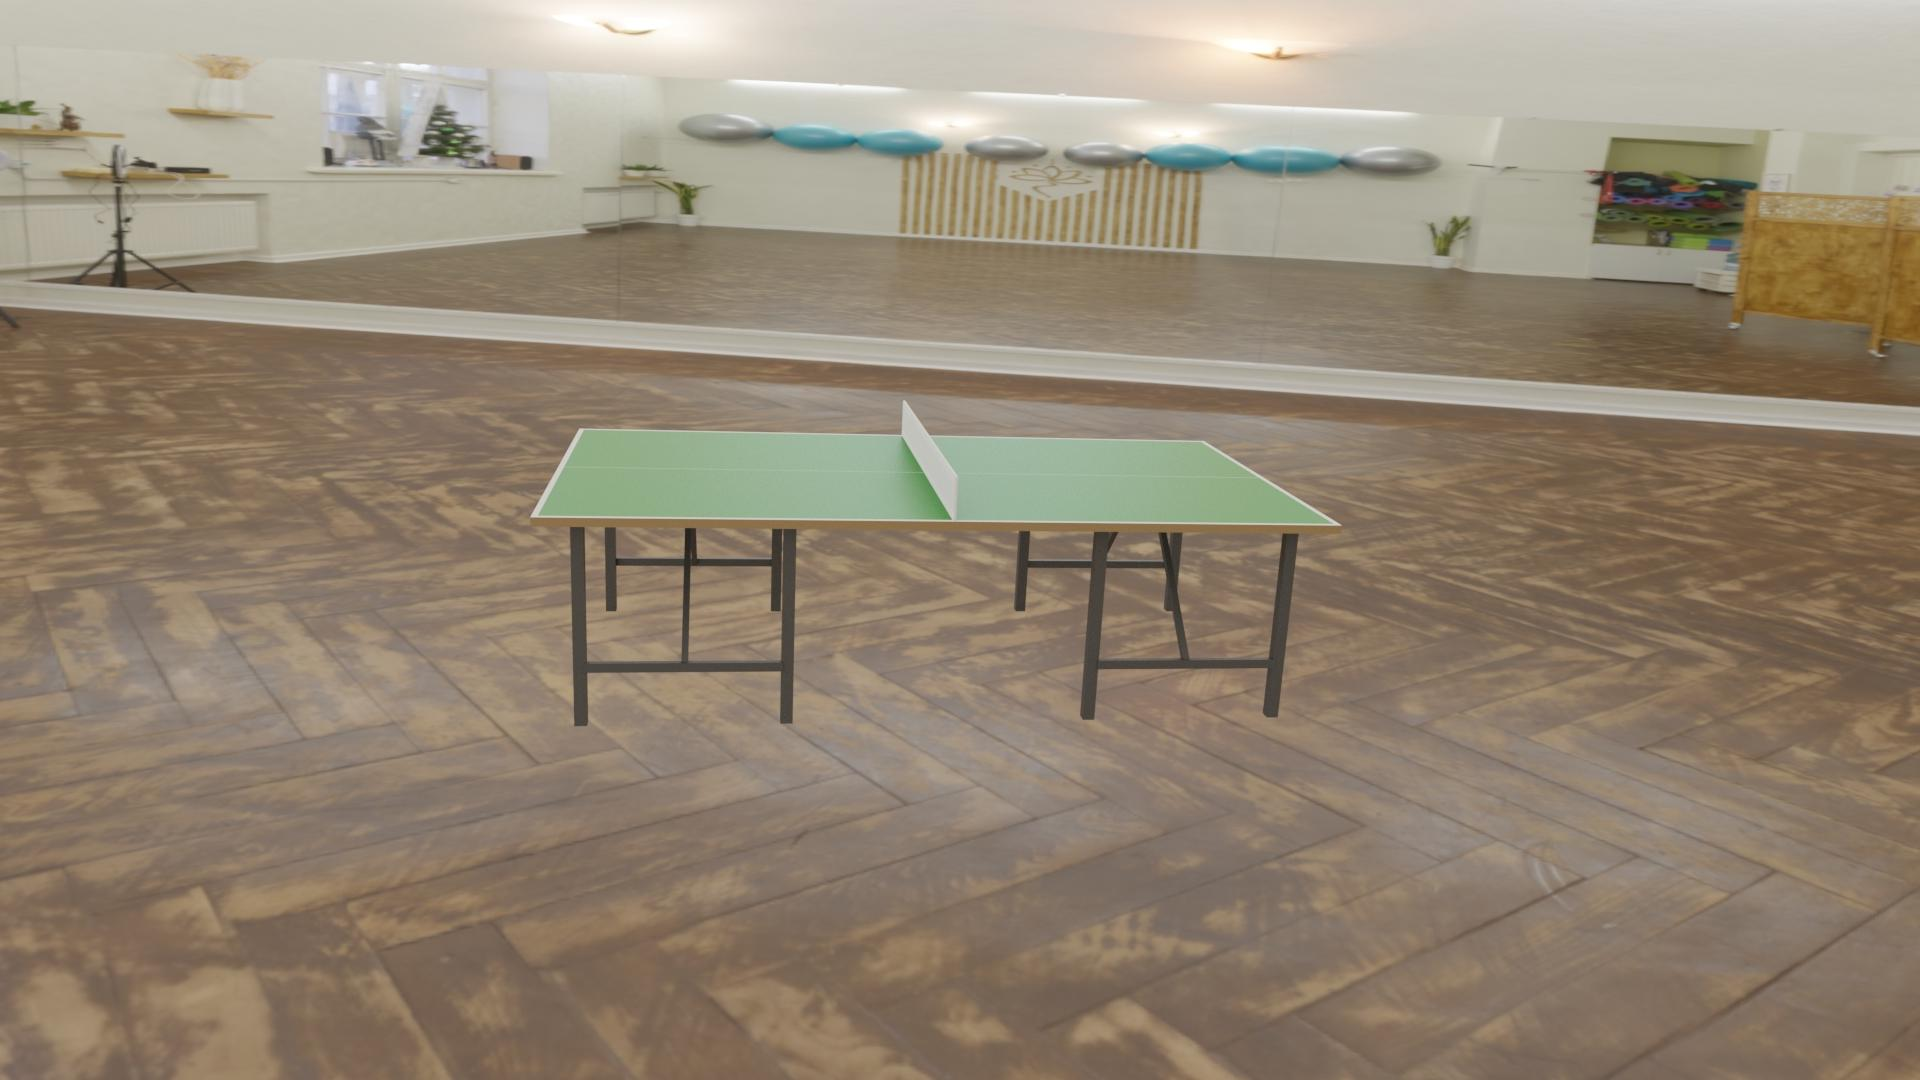table: (538, 430, 1335, 524)
